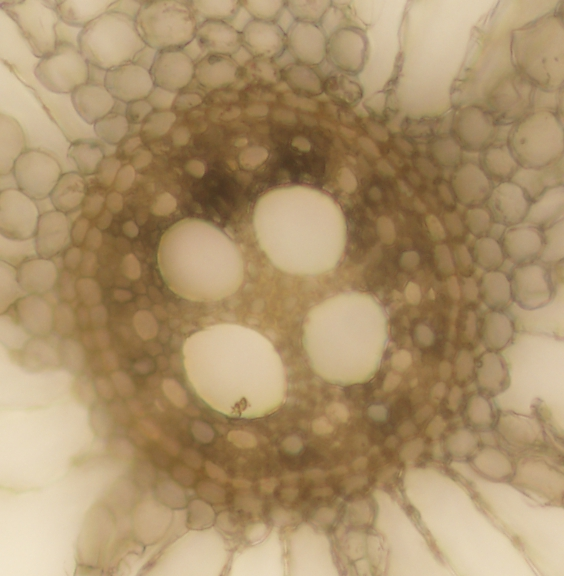lm: (182, 323, 287, 416), (253, 183, 346, 276), (300, 291, 389, 386), (157, 217, 244, 303)
